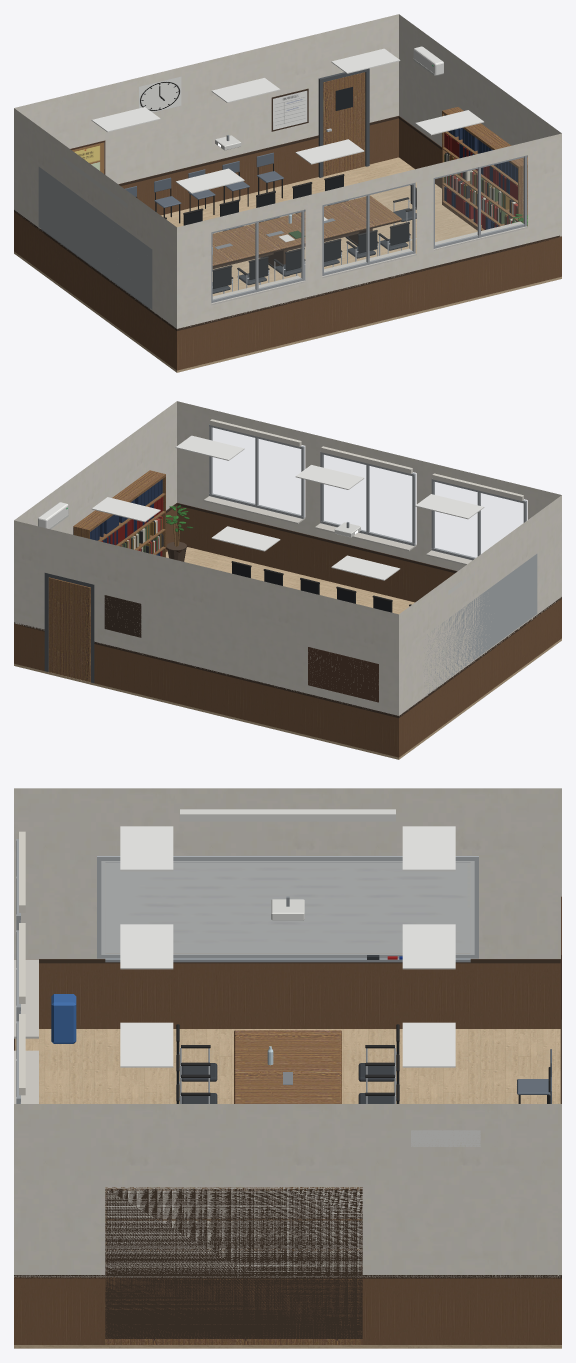
File: wancai_sema.glb
The picture shows the model from 3 angles, top to bottom: view 1: azimuth 30°, elevation 25°; view 2: azimuth 150°, elevation 25°; view 3: azimuth 270°, elevation 25°; orthographic projection. The views are drawn at different scales.
Parts seen in each view (by area): view 1: WALL_N_wall, WALL_S_wall, WALL_S_glass, WALL_S_wain, wancai_sema_props, WALL_W_wall, WALL_E_wall, wancai_sema_floorm, WALL_W_trim, WALL_W_wain, WALL_N_wain, WALL_S_frame (+10 smaller); view 2: WALL_N_wall, WALL_S_glass, WALL_N_wain, WALL_W_wall, WALL_S_wall, WALL_S_wain, wancai_sema_props, WALL_E_wall, WALL_S_frame, WALL_W_wain, WALL_W_trim, WALL_N_trim (+6 smaller); view 3: WALL_E_wall, WALL_W_wall, WALL_E_books, WALL_W_wain, WALL_W_print, wancai_sema_floorm, WALL_E_wain, wancai_sema_props, WALL_W_trim, wancai_sema_woodparts, WALL_S_frame, WALL_E_bookwood (+3 smaller).
Part boxes in pixels (x1=…): WALL_N_wall: x1=14, y1=14, x2=398, y2=184; WALL_S_wall: x1=177, y1=133, x2=561, y2=328; WALL_S_glass: x1=213, y1=158, x2=523, y2=299; WALL_S_wain: x1=177, y1=236, x2=561, y2=370; wancai_sema_props: x1=91, y1=48, x2=527, y2=293; WALL_W_wall: x1=14, y1=108, x2=176, y2=328; WALL_E_wall: x1=399, y1=14, x2=561, y2=157; wancai_sema_floorm: x1=14, y1=157, x2=561, y2=372; WALL_W_trim: x1=14, y1=157, x2=176, y2=330; WALL_W_wain: x1=14, y1=212, x2=176, y2=370; WALL_N_wain: x1=121, y1=118, x2=398, y2=215; WALL_S_frame: x1=211, y1=155, x2=527, y2=305; WALL_N_wall: x1=14, y1=520, x2=398, y2=715; WALL_S_glass: x1=212, y1=428, x2=522, y2=557; WALL_N_wain: x1=14, y1=623, x2=398, y2=757; WALL_W_wall: x1=399, y1=495, x2=561, y2=715; WALL_S_wall: x1=177, y1=401, x2=561, y2=571; WALL_S_wain: x1=177, y1=505, x2=454, y2=602; wancai_sema_props: x1=92, y1=435, x2=484, y2=612; WALL_E_wall: x1=14, y1=401, x2=176, y2=534; WALL_S_frame: x1=203, y1=419, x2=526, y2=564; WALL_W_wain: x1=399, y1=598, x2=561, y2=757; WALL_W_trim: x1=398, y1=554, x2=561, y2=717; WALL_N_trim: x1=15, y1=573, x2=398, y2=717; WALL_E_wall: x1=14, y1=1104, x2=561, y2=1277; WALL_W_wall: x1=14, y1=788, x2=561, y2=958; WALL_E_books: x1=105, y1=1189, x2=362, y2=1338; WALL_W_wain: x1=39, y1=963, x2=560, y2=1028; WALL_W_print: x1=105, y1=862, x2=470, y2=953; wancai_sema_floorm: x1=14, y1=1029, x2=561, y2=1348; WALL_E_wain: x1=14, y1=1277, x2=561, y2=1344; wancai_sema_props: x1=51, y1=826, x2=551, y2=1103; WALL_W_trim: x1=15, y1=809, x2=560, y2=963; wancai_sema_woodparts: x1=234, y1=1030, x2=341, y2=1103; WALL_S_frame: x1=14, y1=831, x2=38, y2=1103; WALL_E_bookwood: x1=105, y1=1187, x2=362, y2=1344.
Bounding box in the file's own units: 9 × 3.25 × 6.6.
Materials: 14 (6 with a texture image).
